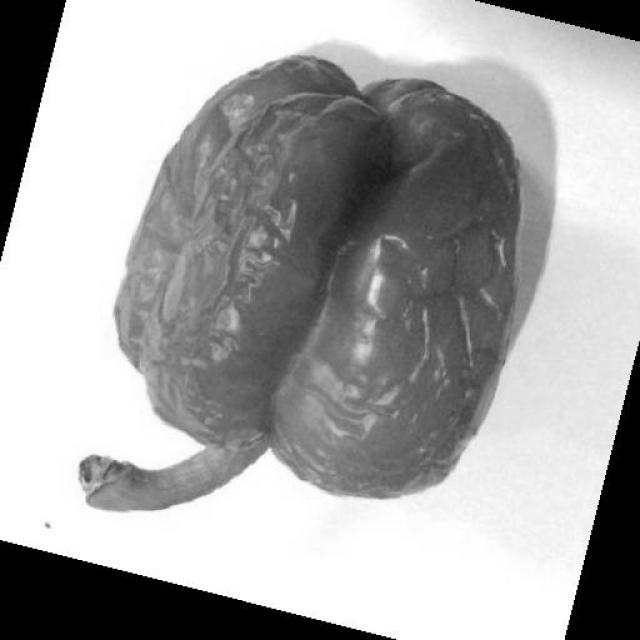Stale_Capsicum: (80, 31, 548, 563)
